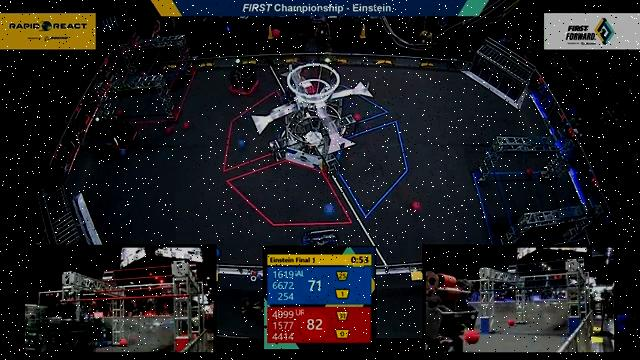Robot: (109, 115, 150, 162), (81, 107, 126, 148), (225, 61, 263, 98), (299, 219, 344, 248)
